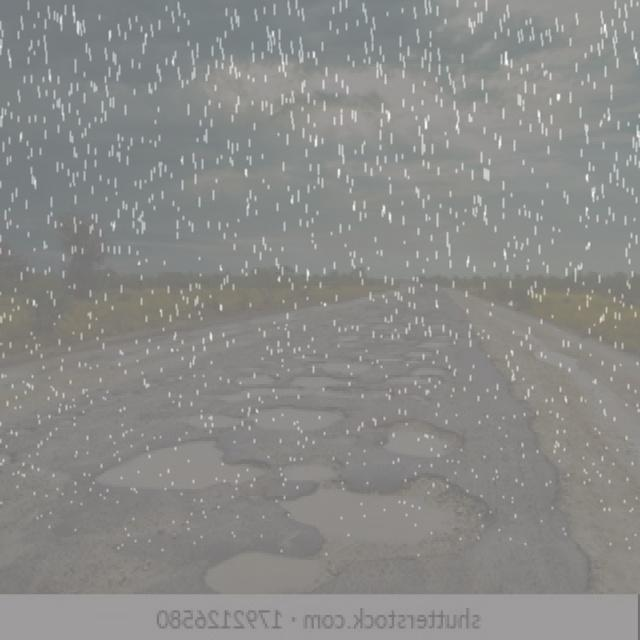Pothole: (200, 470, 516, 594), (82, 422, 272, 492), (212, 370, 372, 407), (371, 414, 466, 462), (252, 400, 350, 436), (376, 360, 453, 396), (339, 327, 386, 362), (410, 318, 453, 356), (187, 408, 254, 429)
